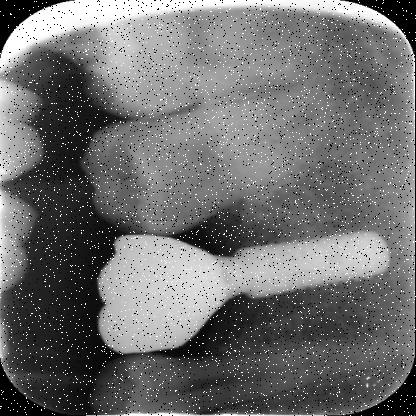ITI: (233, 225, 398, 307)
